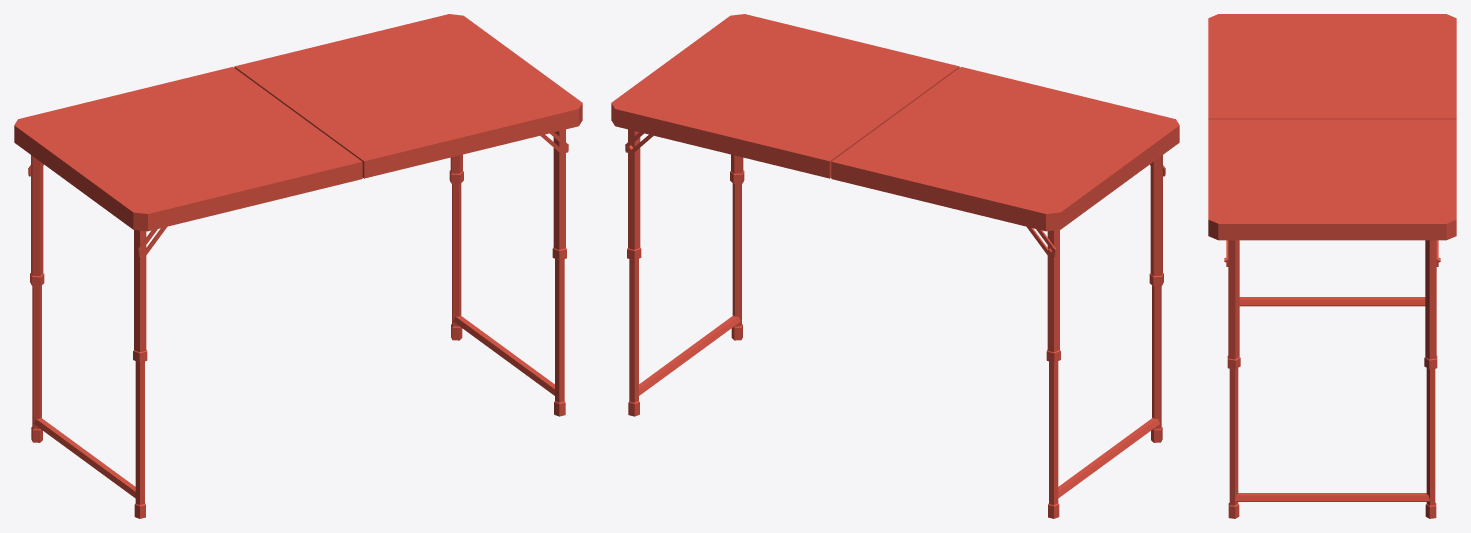
Rendered from SM_Portable_Table_Movie.fbx.
3 views of the same model, side by side, from view 1: azimuth 30°, elevation 25°; view 2: azimuth 150°, elevation 25°; view 3: azimuth 270°, elevation 25° (orthographic). The views are drawn at different scales.
Parts seen in each view (by area): view 1: SM_Portable_Table_Movie; view 2: SM_Portable_Table_Movie; view 3: SM_Portable_Table_Movie.
Part boxes in pixels (x1,y1,x2,y2): SM_Portable_Table_Movie: (14,14,582,518); SM_Portable_Table_Movie: (611,14,1179,518); SM_Portable_Table_Movie: (1208,14,1456,518).
Size of the model in its own units: 60 by 120 by 79.95.
